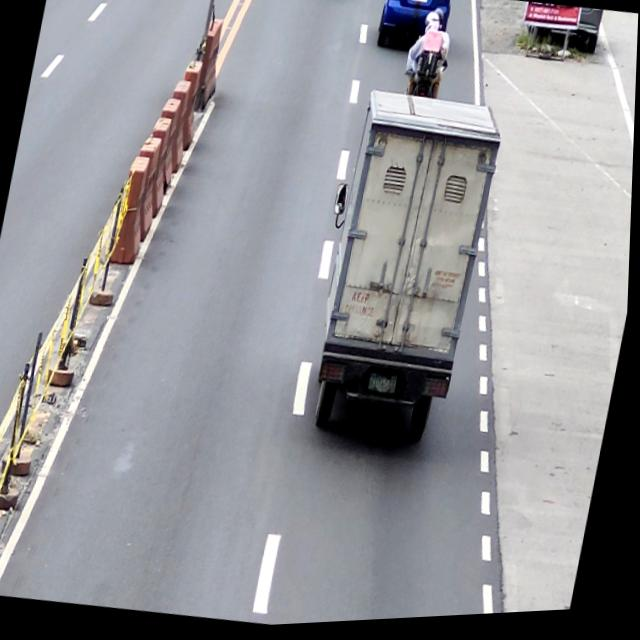Car: (376, 0, 456, 59)
License-Plate: (371, 379, 401, 402), (410, 0, 430, 9)
Truck: (293, 87, 510, 463)
